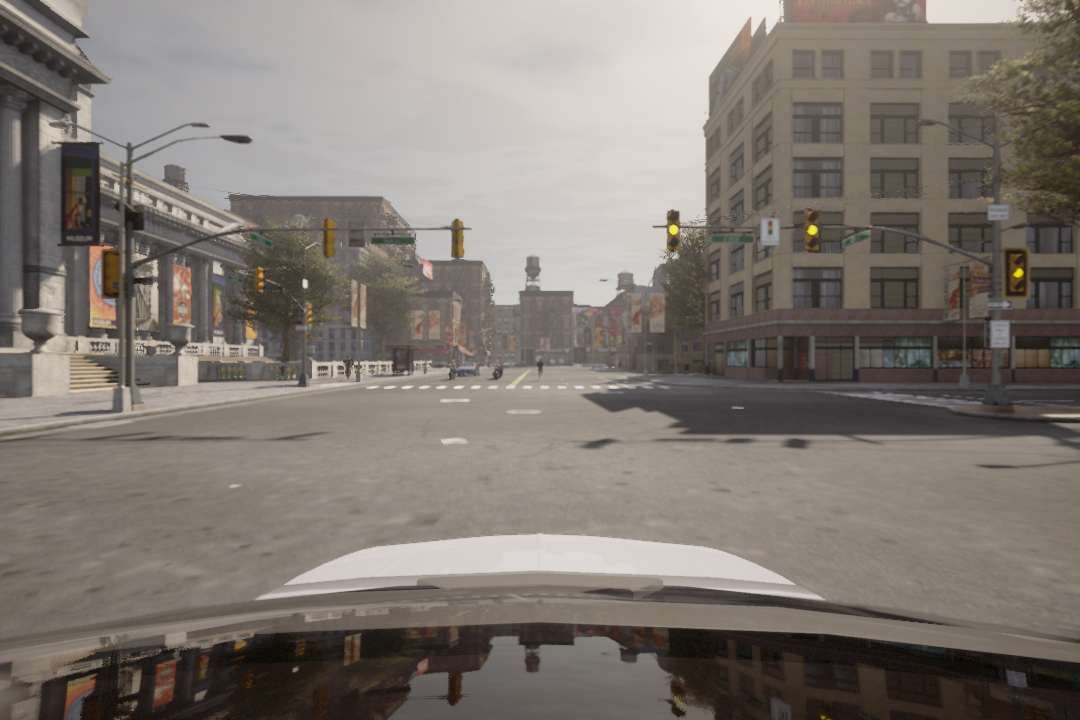TrafficLight: (800, 207, 825, 254), (1005, 248, 1028, 296), (662, 209, 684, 251)
walkside: (352, 382, 682, 395)
